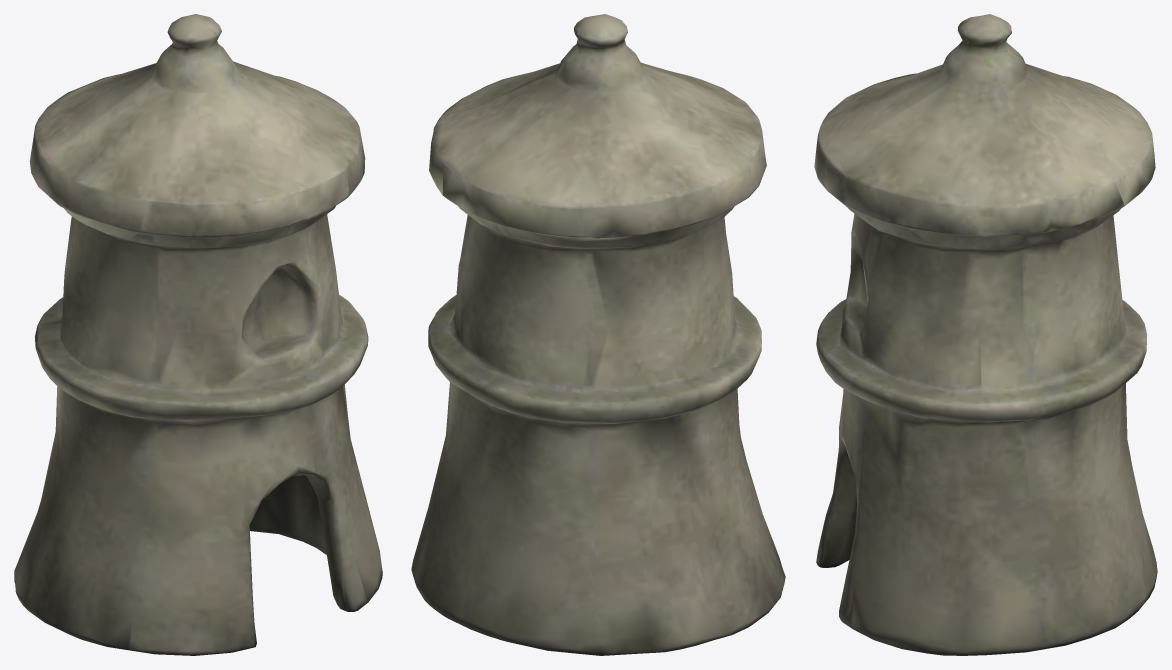
File: rustic-limestone-turret-top-v001.glb
3 views of the same model, side by side, from view 1: azimuth 30°, elevation 25°; view 2: azimuth 150°, elevation 25°; view 3: azimuth 270°, elevation 25° (orthographic).
Parts seen in each view (by area): view 1: rustic-limestone-turret-top; view 2: rustic-limestone-turret-top; view 3: rustic-limestone-turret-top.
Boxes of the visible parts, <box> form: rustic-limestone-turret-top: <box>14,14,382,655</box>; rustic-limestone-turret-top: <box>411,14,785,655</box>; rustic-limestone-turret-top: <box>814,14,1157,655</box>.
Bounding box in the file's own units: 1.38 × 2.3 × 1.27.
1 material, 1 textured.
